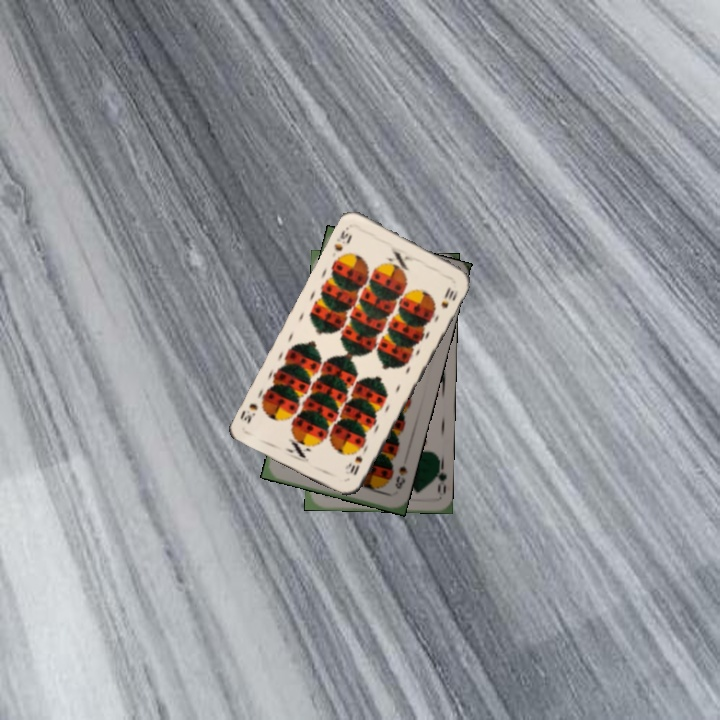GO: (429, 456, 449, 497)
S10: (330, 226, 355, 254), (346, 451, 365, 478)
S8: (391, 462, 410, 492)
